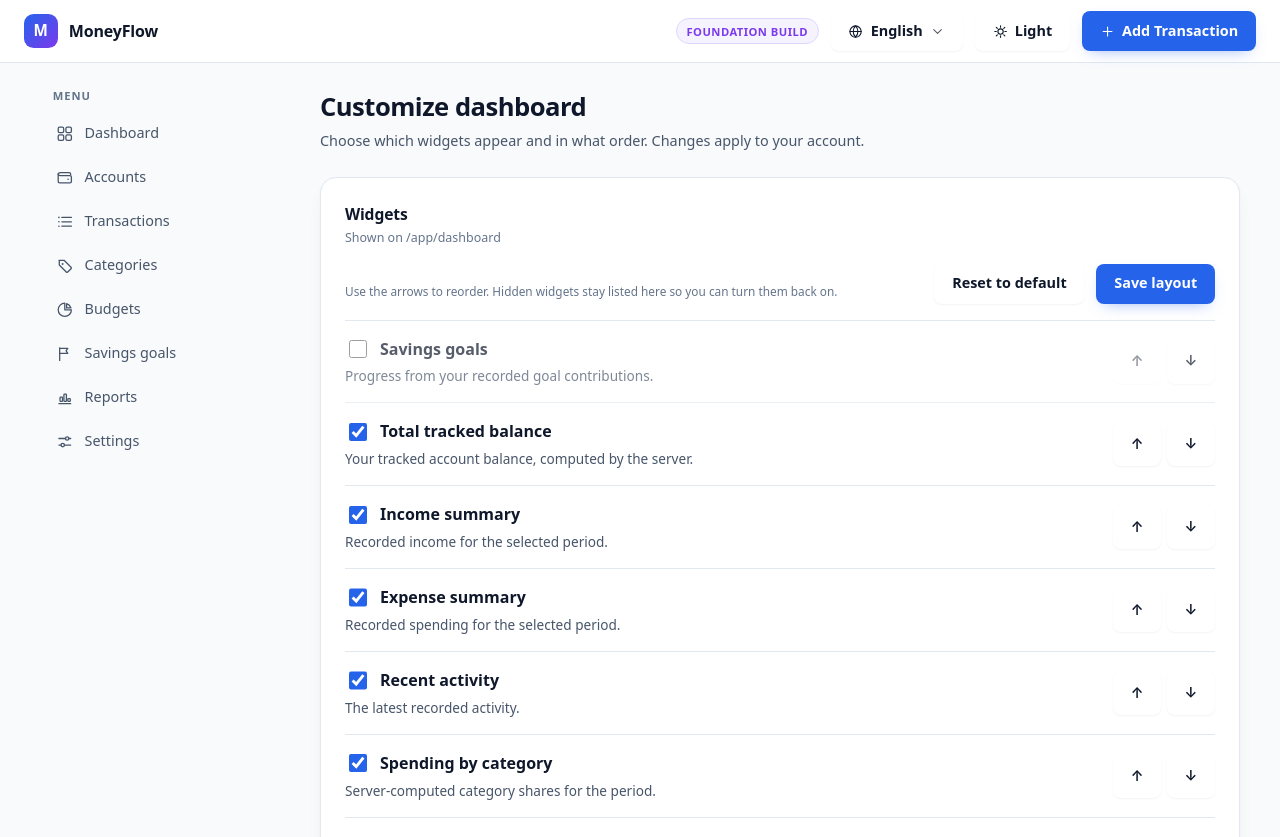
Test case: dashboard customize route (wired to /api/v1/dashboard/layout) › resets to the documented default layout
Expected: the text "Total tracked balance" is shown, [380,420,552,444]
Click the button "Reset to default" at (1009, 284), box [934,264,1084,304]
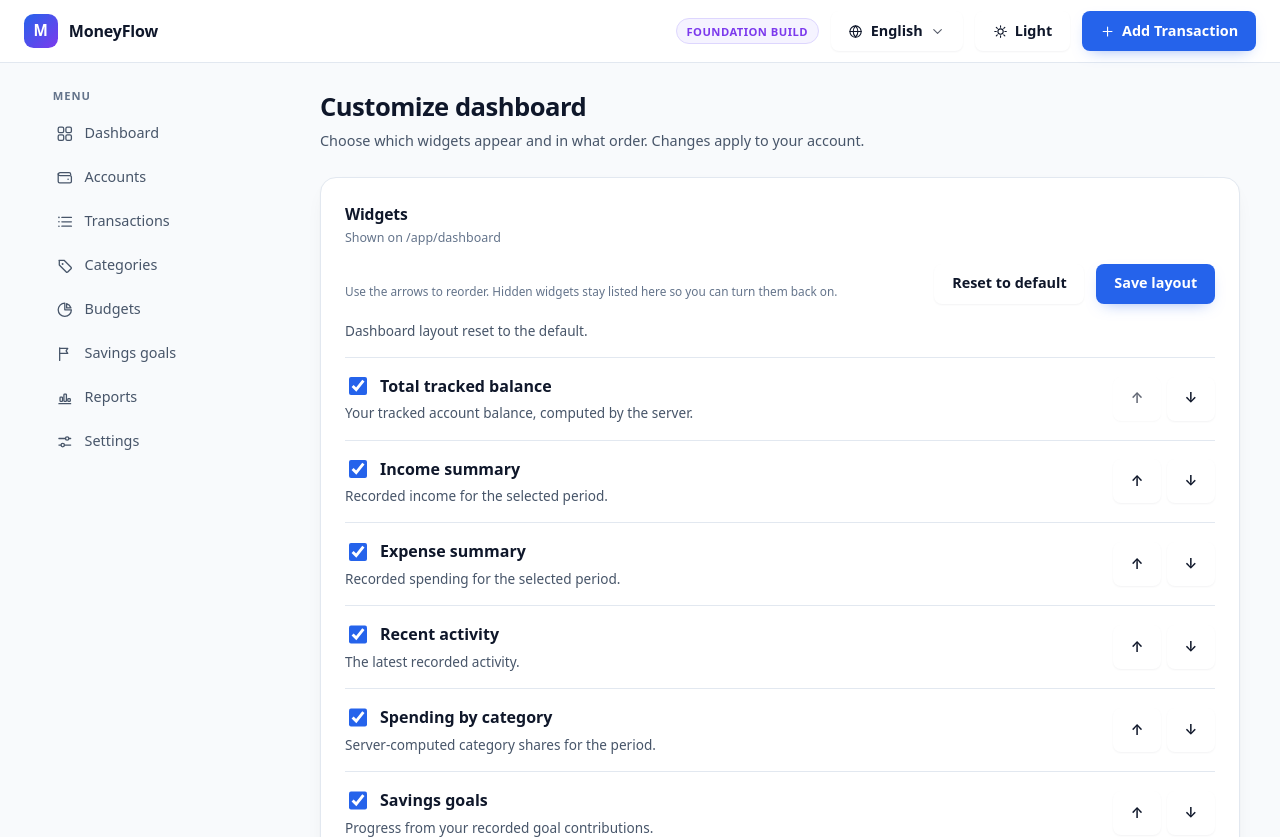
Expected: the checkbox labelled "Total tracked balance" is checked, [349,377,367,395]
Now the text "Dashboard layout reset to the default." is shown, box [345,321,588,340]
